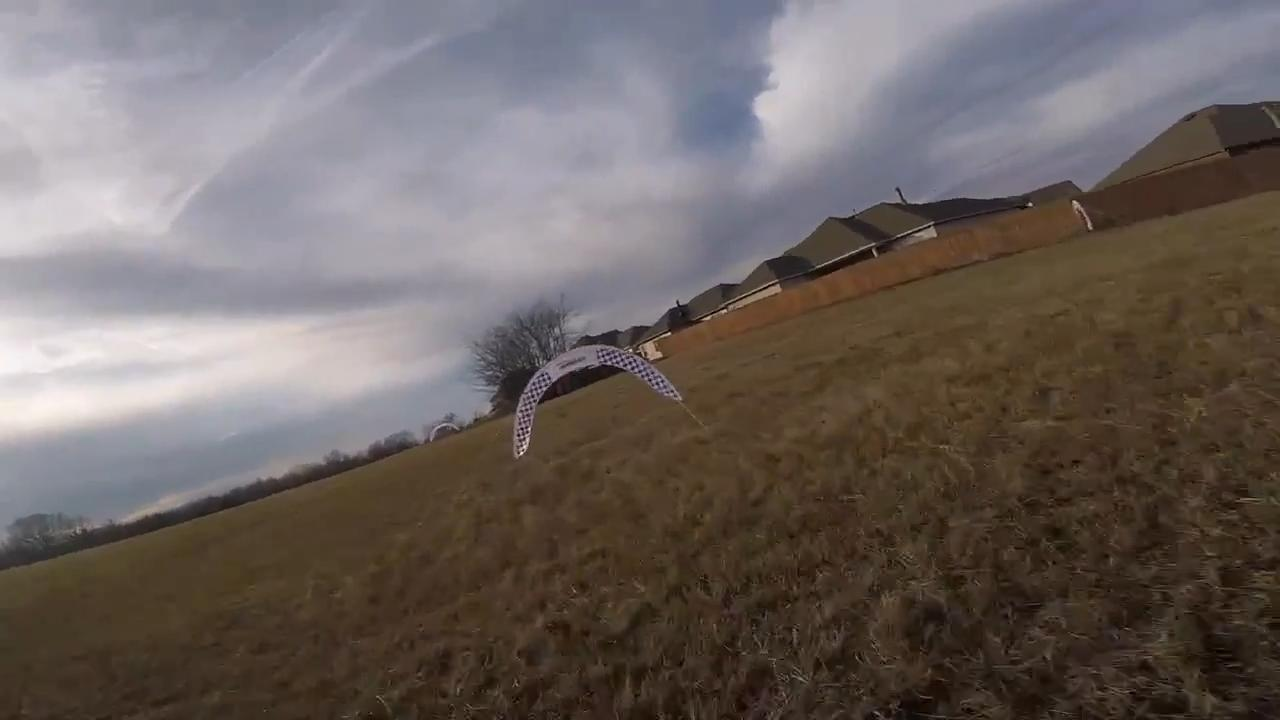gate: (509, 342, 683, 460)
